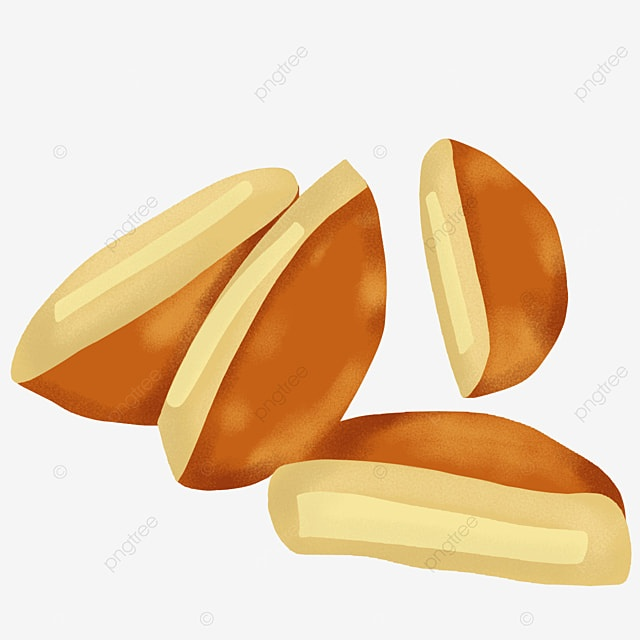pukis: (264, 355, 640, 609)
